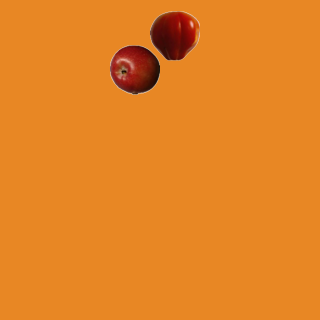Apple Braeburn: (109, 44, 159, 94)
Tomato 1: (149, 10, 199, 60)
